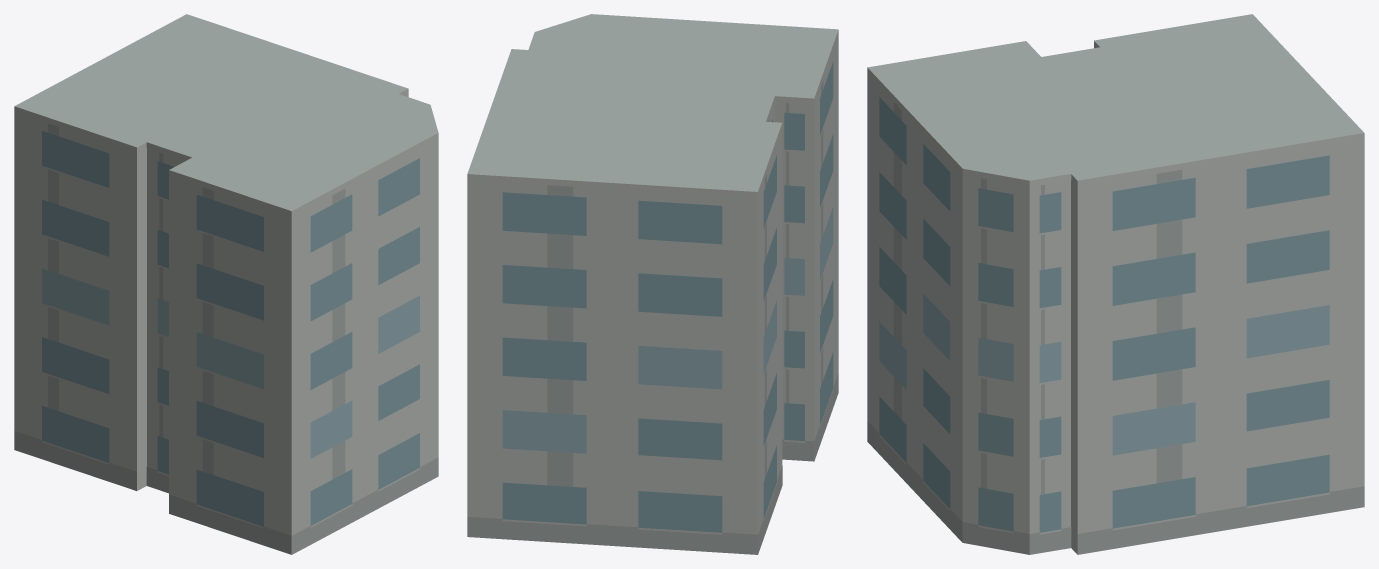
Rendered from survey-upis-32851964.glb.
3 renders of one model, left to right at view 1: azimuth 30°, elevation 25°; view 2: azimuth 150°, elevation 25°; view 3: azimuth 270°, elevation 25°, orthographic. The views are drawn at different scales.
Visible parts, largest first — view 1: survey-upis-32851964.tmp; view 2: survey-upis-32851964.tmp; view 3: survey-upis-32851964.tmp.
Part boxes in pixels (x1,y1,x2,y2): survey-upis-32851964.tmp: (14, 14, 438, 554); survey-upis-32851964.tmp: (467, 14, 838, 554); survey-upis-32851964.tmp: (867, 14, 1364, 554).
Bounding box in the file's own units: 13.77 × 14.4 × 17.35.
